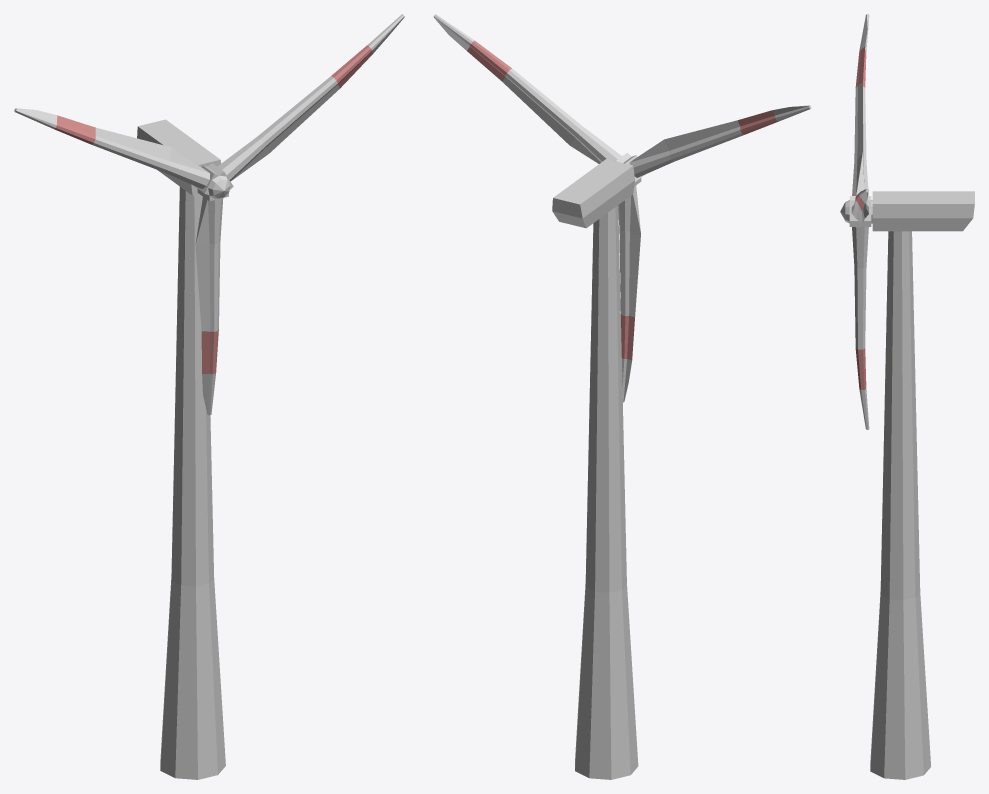
Rendered from WindTurbine2CounterClockwise.fbx.
The picture shows the model from 3 angles, left to right: view 1: azimuth 30°, elevation 25°; view 2: azimuth 150°, elevation 25°; view 3: azimuth 270°, elevation 25°; orthographic projection. The views are drawn at different scales.
Parts seen in each view (by area): view 1: Cylinder.001, Cylinder.000, Cylinder.002; view 2: Cylinder.001, Cylinder.000, Cylinder.002; view 3: Cylinder.001, Cylinder.000, Cylinder.002.
Boxes of the visible parts, x1,y1,x2,y2 form: Cylinder.001: (160,187,225,779); Cylinder.000: (14,14,404,415); Cylinder.002: (137,119,221,195); Cylinder.001: (575,205,638,779); Cylinder.000: (433,14,811,402); Cylinder.002: (552,159,634,228); Cylinder.001: (870,231,930,779); Cylinder.000: (840,14,872,429); Cylinder.002: (872,191,974,231).
Size of the model in its own units: 52.17 by 91.73 by 16.84.
